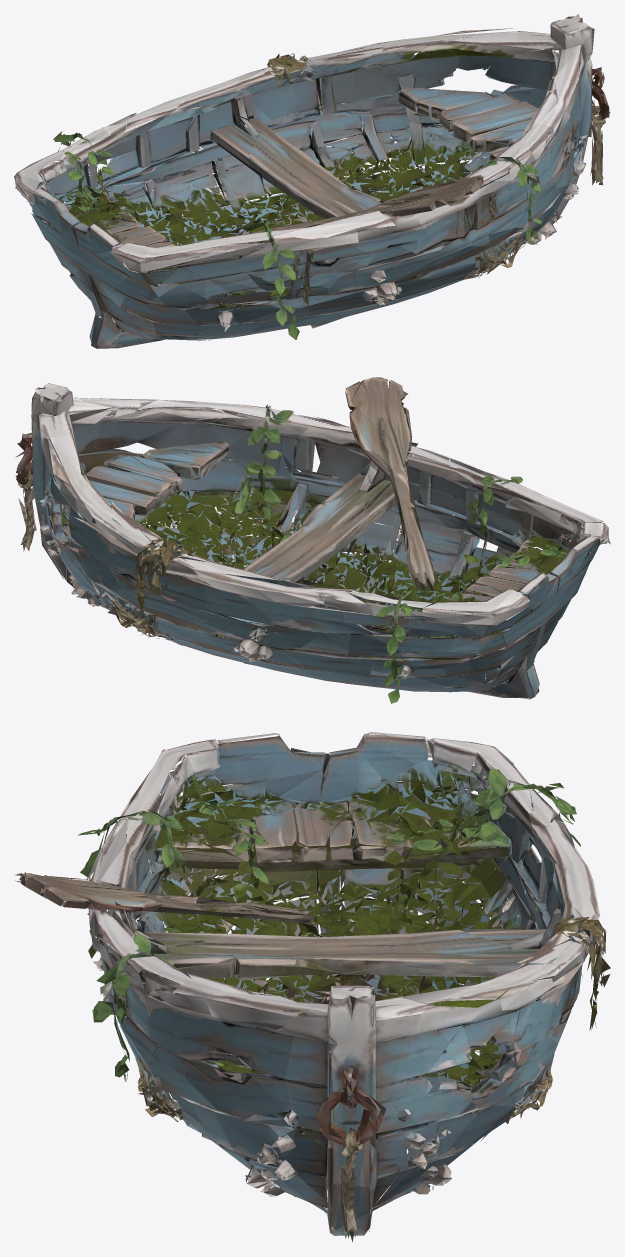
The model's file is flower_boat.glb.
3 renders of one model, top to bottom at view 1: azimuth 30°, elevation 25°; view 2: azimuth 150°, elevation 25°; view 3: azimuth 270°, elevation 25°, orthographic. The views are drawn at different scales.
Parts seen in each view (by area): view 1: Mesh_0; view 2: Mesh_0; view 3: Mesh_0.
Part boxes in pixels (bbox=[...]): Mesh_0: bbox=[14, 14, 610, 348]; Mesh_0: bbox=[15, 377, 610, 703]; Mesh_0: bbox=[15, 732, 610, 1242].
Bounding box in the file's own units: 5.4 × 1.99 × 3.7.
Materials: 1 (1 with a texture image).
